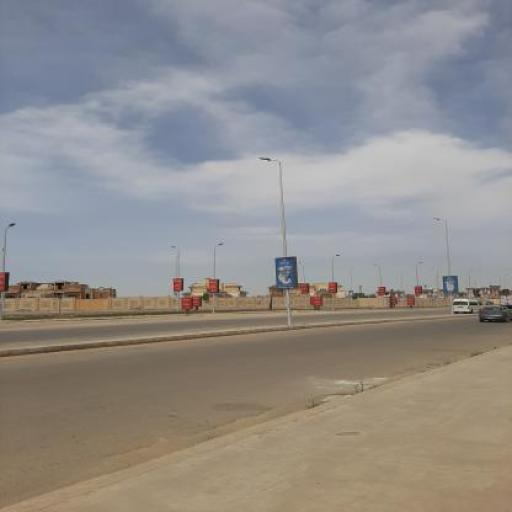street light: (258, 156, 293, 326), (432, 218, 455, 315), (0, 223, 17, 322), (212, 244, 224, 314), (171, 245, 180, 311), (373, 265, 385, 307), (331, 255, 340, 310), (298, 262, 307, 309), (415, 262, 423, 308), (432, 268, 441, 306), (350, 268, 356, 306)
